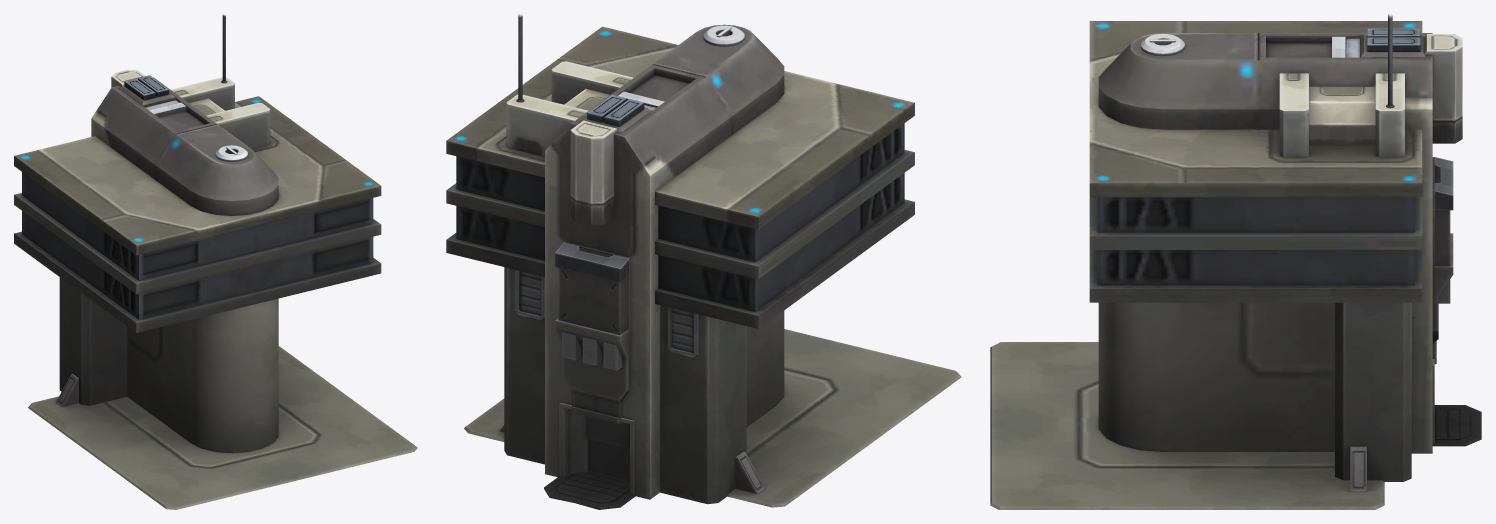
Rendered from IndoctrinationCenter.fbx.
3 renders of one model, left to right at view 1: azimuth 30°, elevation 25°; view 2: azimuth 150°, elevation 25°; view 3: azimuth 270°, elevation 25°, orthographic. The views are drawn at different scales.
Parts seen in each view (by area): view 1: Indoctrination_Center; view 2: Indoctrination_Center; view 3: Indoctrination_Center.
Part boxes in pixels (x1,y1,x2,y2): Indoctrination_Center: (14, 14, 417, 509); Indoctrination_Center: (446, 14, 961, 509); Indoctrination_Center: (990, 14, 1481, 509).
Bounding box in the file's own units: 2.32 × 2.89 × 3.01.
